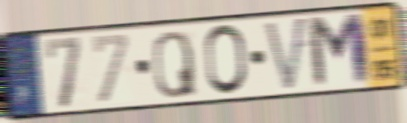7: (42, 34, 84, 112), (90, 32, 131, 107)
M: (305, 11, 374, 92)
O: (202, 22, 250, 98)
Q: (151, 29, 199, 101)
V: (262, 13, 310, 95)
